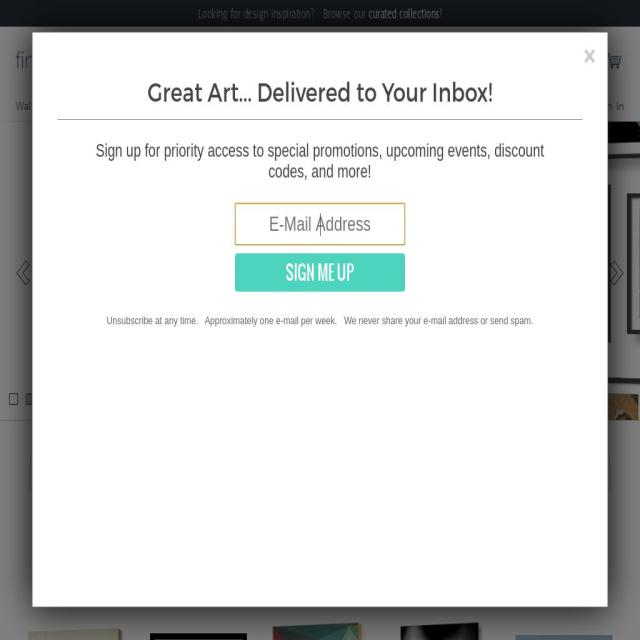button: (0, 122, 640, 420), (0, 122, 640, 420), (0, 122, 640, 420), (0, 122, 640, 420), (288, 458, 367, 492), (541, 458, 610, 492), (218, 458, 283, 492), (59, 92, 132, 122), (92, 458, 154, 492), (482, 92, 550, 122), (372, 458, 430, 492), (333, 92, 398, 122), (30, 458, 86, 492), (435, 458, 489, 492), (221, 92, 282, 122), (81, 272, 143, 301), (160, 458, 212, 492), (132, 92, 184, 122), (282, 92, 334, 122), (494, 458, 536, 492), (15, 92, 60, 122), (585, 92, 624, 122), (488, 50, 541, 72), (184, 92, 221, 122), (549, 92, 585, 122), (445, 50, 486, 72), (542, 50, 578, 72), (44, 317, 95, 326), (137, 317, 181, 326), (96, 317, 136, 326), (408, 54, 423, 68), (606, 54, 624, 65)
field: (160, 47, 408, 75)
heading: (32, 202, 192, 260)
image: (297, 371, 455, 496), (300, 369, 458, 493), (345, 38, 467, 144), (347, 41, 469, 147), (306, 192, 392, 326), (310, 194, 396, 328), (502, 195, 589, 320), (503, 194, 589, 319), (221, 53, 272, 160), (221, 375, 272, 482), (218, 529, 269, 636), (218, 51, 269, 157), (503, 32, 554, 138), (218, 211, 269, 317), (221, 211, 272, 317), (415, 207, 466, 313), (415, 208, 466, 314), (218, 377, 269, 483), (486, 383, 537, 489), (221, 526, 272, 632), (299, 531, 350, 637), (502, 35, 552, 142), (577, 385, 627, 492), (380, 536, 431, 640), (487, 385, 537, 491), (579, 388, 629, 494), (297, 535, 347, 640), (593, 28, 640, 135), (380, 541, 430, 640), (466, 543, 516, 640), (595, 25, 640, 131), (466, 547, 516, 640), (15, 50, 140, 70), (290, 502, 470, 512), (273, 622, 368, 640), (290, 359, 470, 368), (400, 622, 484, 640), (337, 162, 482, 172), (299, 60, 314, 147), (297, 58, 312, 144), (494, 187, 502, 341), (289, 359, 297, 513), (28, 628, 125, 640), (337, 28, 482, 36), (298, 189, 305, 353), (337, 36, 345, 172), (624, 193, 632, 329), (494, 27, 502, 162), (298, 182, 406, 192), (298, 336, 406, 346), (494, 184, 602, 194), (608, 184, 615, 338), (464, 363, 471, 517), (388, 182, 394, 346), (494, 339, 602, 348), (211, 45, 218, 181), (479, 28, 486, 164), (211, 202, 218, 338), (479, 196, 486, 332), (211, 365, 218, 501), (479, 372, 486, 508), (289, 521, 297, 640), (553, 375, 560, 510), (289, 49, 297, 165), (211, 516, 218, 640), (458, 533, 466, 640), (632, 203, 640, 309), (276, 41, 282, 177), (586, 20, 592, 156), (408, 198, 414, 334), (570, 375, 576, 511), (276, 201, 282, 336), (276, 367, 282, 502), (570, 22, 576, 156), (323, 48, 330, 162), (372, 526, 379, 640), (443, 531, 450, 640), (494, 159, 567, 169), (289, 521, 362, 531), (211, 168, 283, 178), (408, 328, 480, 338), (211, 365, 283, 375), (211, 488, 283, 498), (479, 372, 551, 382), (479, 505, 551, 515), (276, 520, 282, 640), (372, 526, 444, 536), (532, 538, 539, 640), (358, 526, 364, 640), (150, 633, 247, 640), (494, 22, 567, 31), (211, 41, 283, 50), (211, 201, 283, 210), (211, 326, 283, 335), (408, 197, 480, 206), (211, 516, 283, 525), (569, 375, 640, 384), (569, 511, 640, 520), (458, 534, 531, 542), (635, 202, 640, 308), (585, 15, 640, 24), (585, 156, 640, 165), (13, 258, 32, 284), (606, 258, 625, 284), (516, 635, 612, 640), (290, 48, 326, 56), (290, 158, 326, 166), (606, 53, 621, 69), (624, 332, 640, 342), (408, 54, 418, 68), (624, 192, 640, 200), (211, 639, 283, 640)
link: (368, 7, 441, 20)
text: (16, 516, 624, 590), (32, 186, 192, 202), (198, 7, 368, 20), (58, 394, 66, 404), (74, 394, 82, 404), (26, 394, 33, 404), (42, 394, 49, 404), (439, 7, 442, 20)
